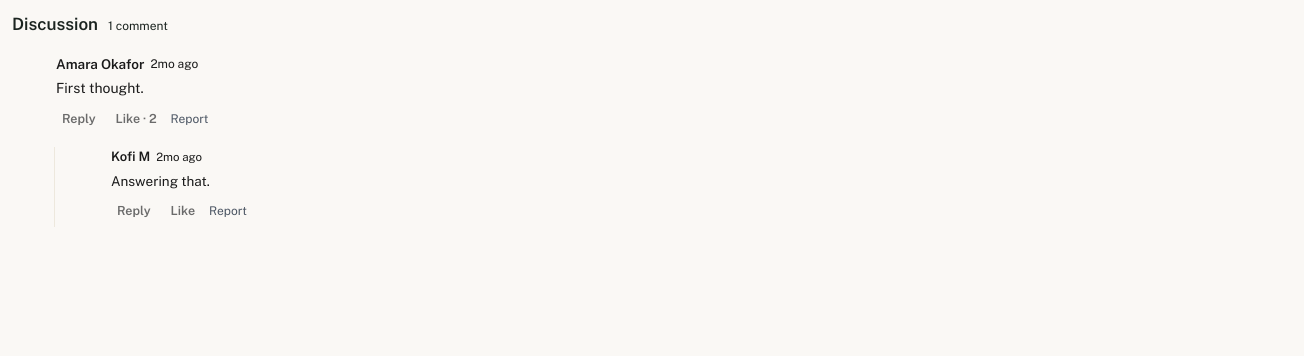
CommentThread › answers a reply at the same level, with the addressee mentioned
Click the button "Reply" below "Answering that.".
click(134, 211)  # box [111, 195, 157, 227]
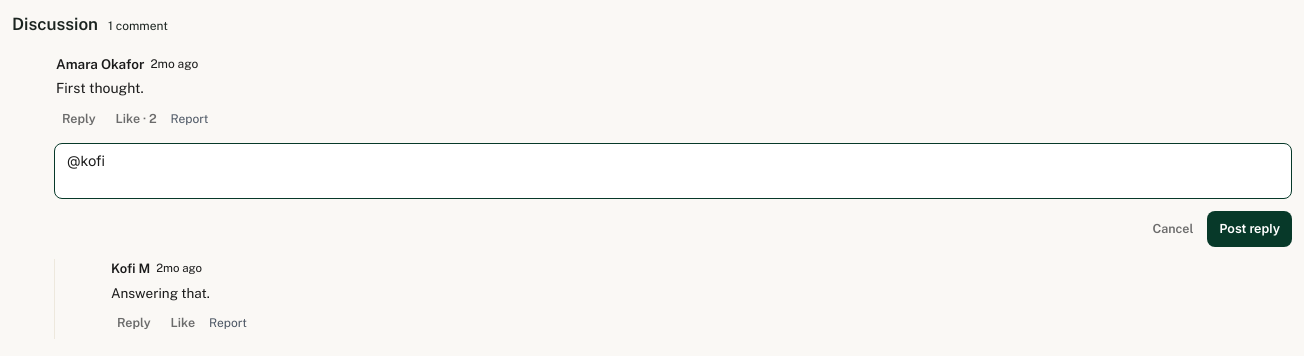
Check: the text box named "Write a reply" holds "@kofi ", box [54, 143, 1292, 199]
